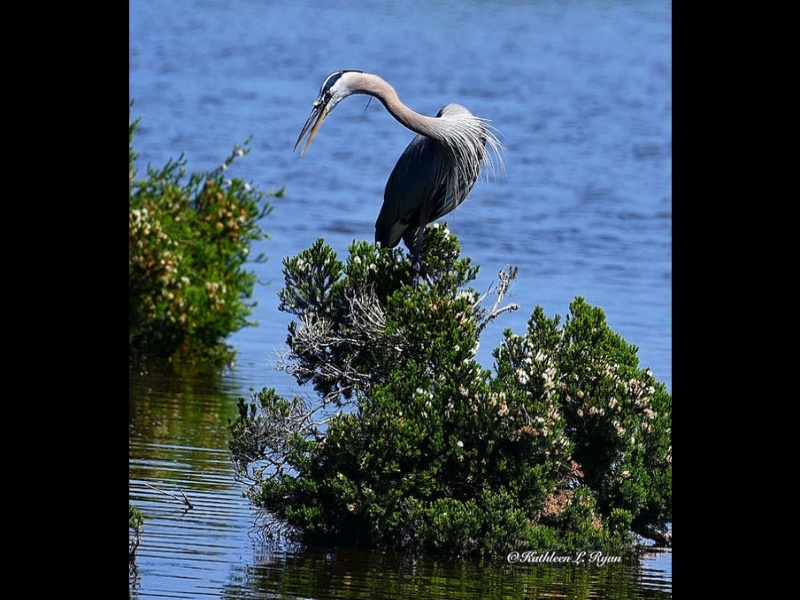heron: (290, 68, 505, 268)
